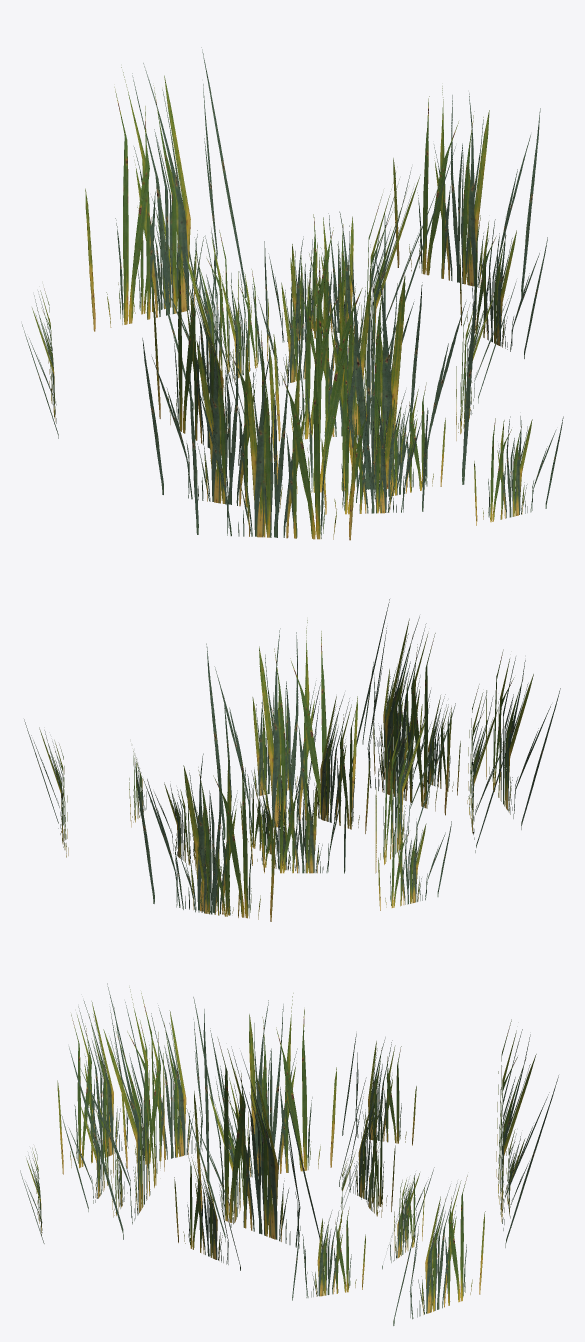
The model's file is Grass_1.fbx.
3 renders of one model, top to bottom at view 1: azimuth 30°, elevation 25°; view 2: azimuth 150°, elevation 25°; view 3: azimuth 270°, elevation 25°, orthographic. The views are drawn at different scales.
Visible parts, largest first — view 1: Grass_B_Low_Dense.1689; view 2: Grass_B_Low_Dense.1689; view 3: Grass_B_Low_Dense.1689.
Part boxes in pixels (bbox=[...]): Grass_B_Low_Dense.1689: bbox=[22, 47, 563, 540]; Grass_B_Low_Dense.1689: bbox=[24, 599, 560, 921]; Grass_B_Low_Dense.1689: bbox=[20, 983, 558, 1325].
Size of the model in its own units: 232 by 110 by 249.
Materials: 1 (1 with a texture image).
